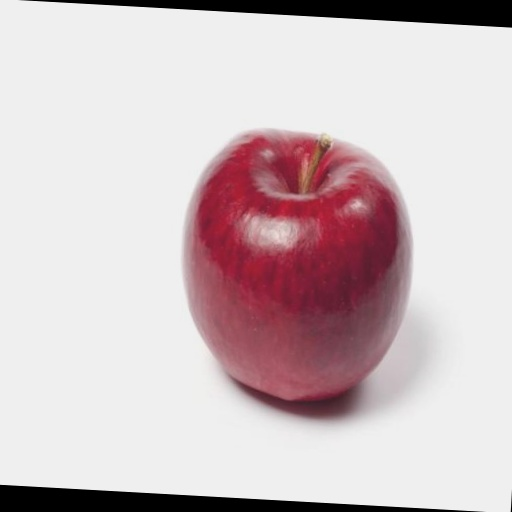fruit: (183, 130, 411, 399)
